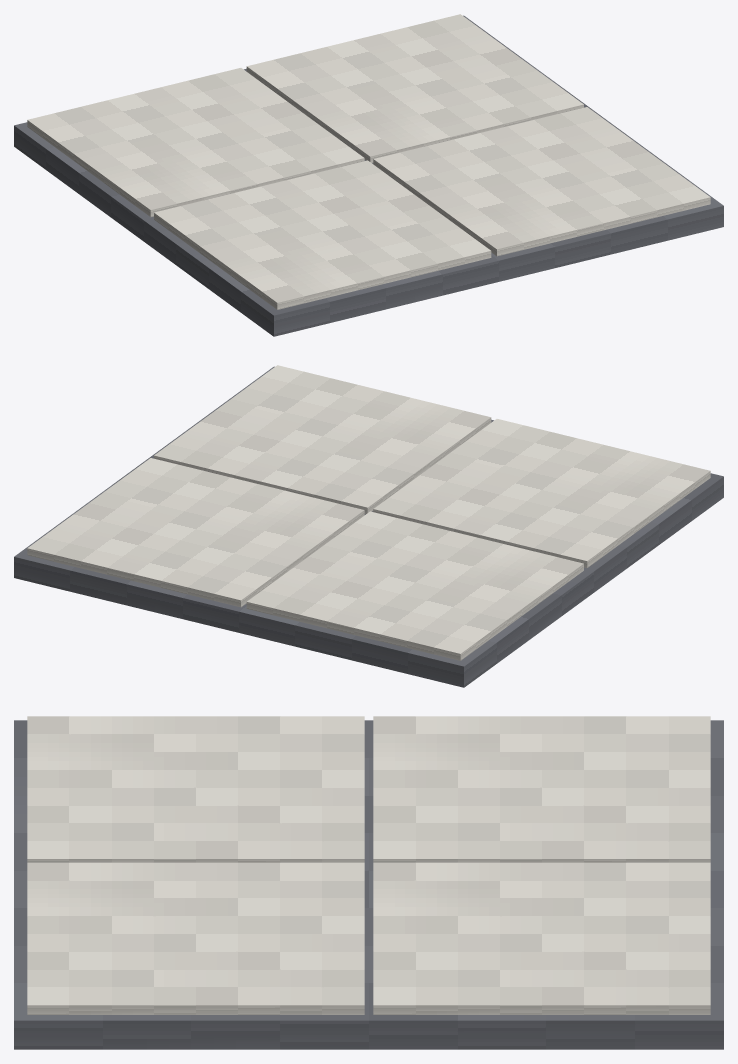
File: pixel-modern-city-street-pavement-tile-3919c1cc__28988.glb
3 views of the same model, one above another, from view 1: azimuth 30°, elevation 25°; view 2: azimuth 150°, elevation 25°; view 3: azimuth 270°, elevation 25° (orthographic). The views are drawn at different scales.
Visible parts, largest first — view 1: pavement-tile; view 2: pavement-tile; view 3: pavement-tile.
Part boxes in pixels (bbox=[...]): pavement-tile: bbox=[14, 14, 723, 336]; pavement-tile: bbox=[14, 365, 723, 687]; pavement-tile: bbox=[14, 716, 723, 1049].
Size of the model in its own units: 4 by 0.2402 by 4.
2 materials, 2 textured.
